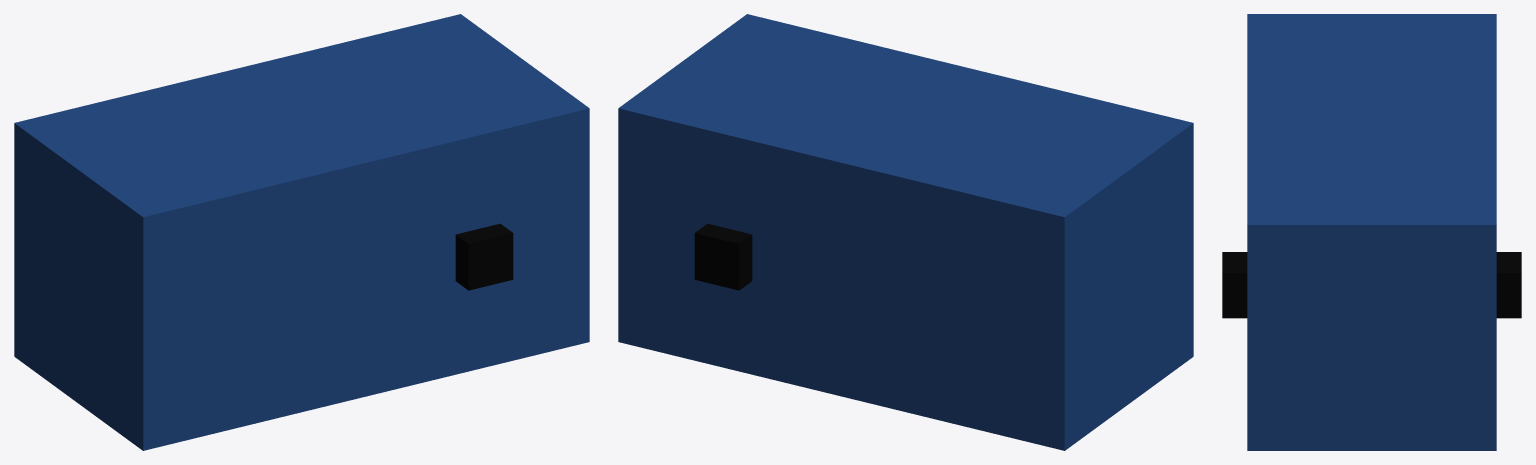
File: fish.dae
The picture shows the model from 3 angles, left to right: view 1: azimuth 30°, elevation 25°; view 2: azimuth 150°, elevation 25°; view 3: azimuth 270°, elevation 25°; orthographic projection. The views are drawn at different scales.
Visible parts, largest first — view 1: Body, Head, Eye2; view 2: Body, Head, Eye; view 3: Head, Body, Eye, Eye2.
Part boxes in pixels (<box>): Body: <box>14,68,366,450</box>; Head: <box>238,14,589,396</box>; Eye2: <box>455,223,513,290</box>; Body: <box>841,68,1193,450</box>; Head: <box>618,14,969,396</box>; Eye: <box>694,223,752,290</box>; Head: <box>1247,119,1496,450</box>; Body: <box>1247,14,1496,119</box>; Eye: <box>1496,252,1521,318</box>; Eye2: <box>1222,252,1247,318</box>.
Size of the model in its own units: 20 by 10 by 12.
